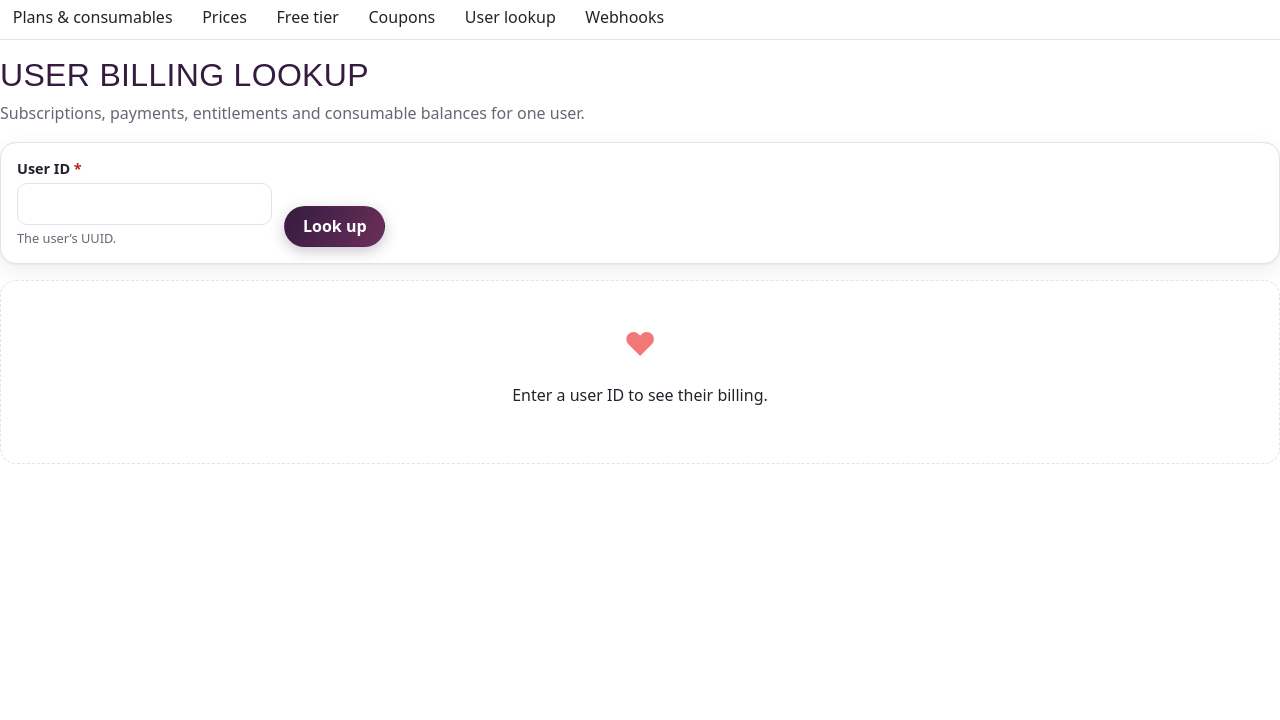
it: UserBillingPage › looks up a user and shows subscriptions, payments, entitlements, balances and ledger
This screenshot has width=1280, height=720.
Type "7c9e6679-7425-40de-944b-e07fc1f90ae7" into the field labelled "User ID". click: (145, 204)
box: [17, 183, 272, 225]
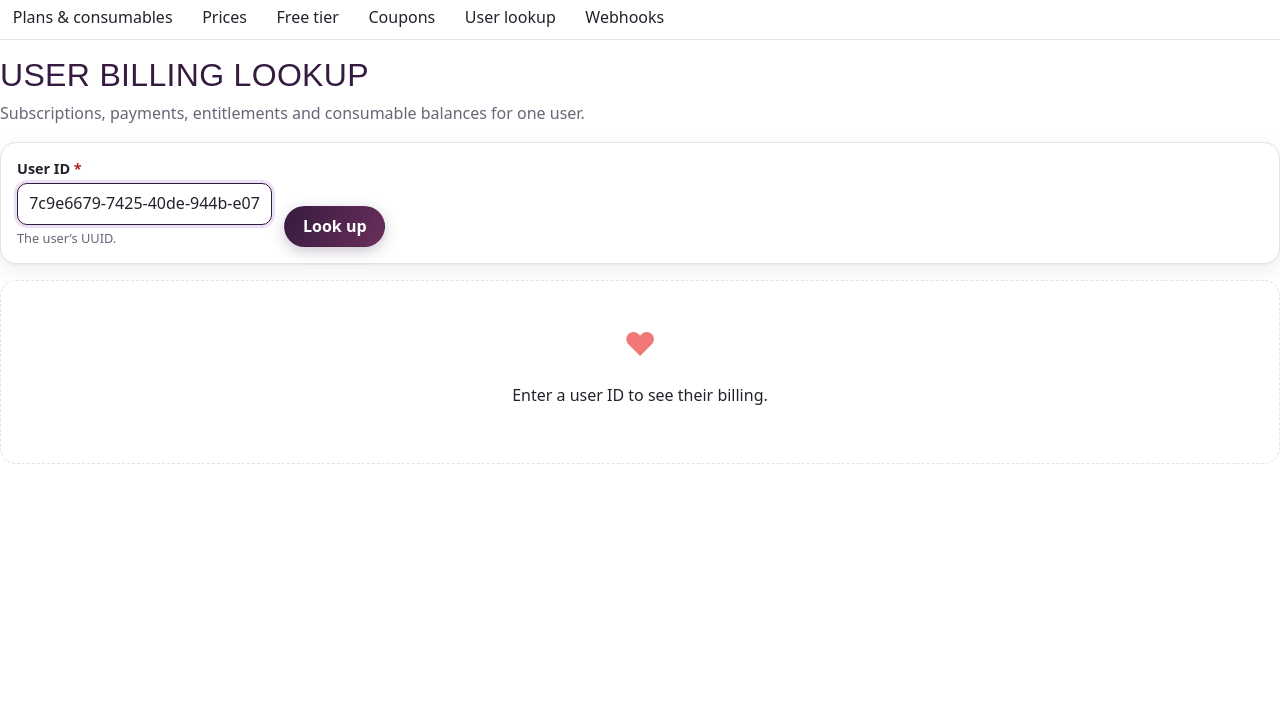
Click the button "Look up". click: (335, 227)
box: [284, 206, 385, 247]
(page scrolled)
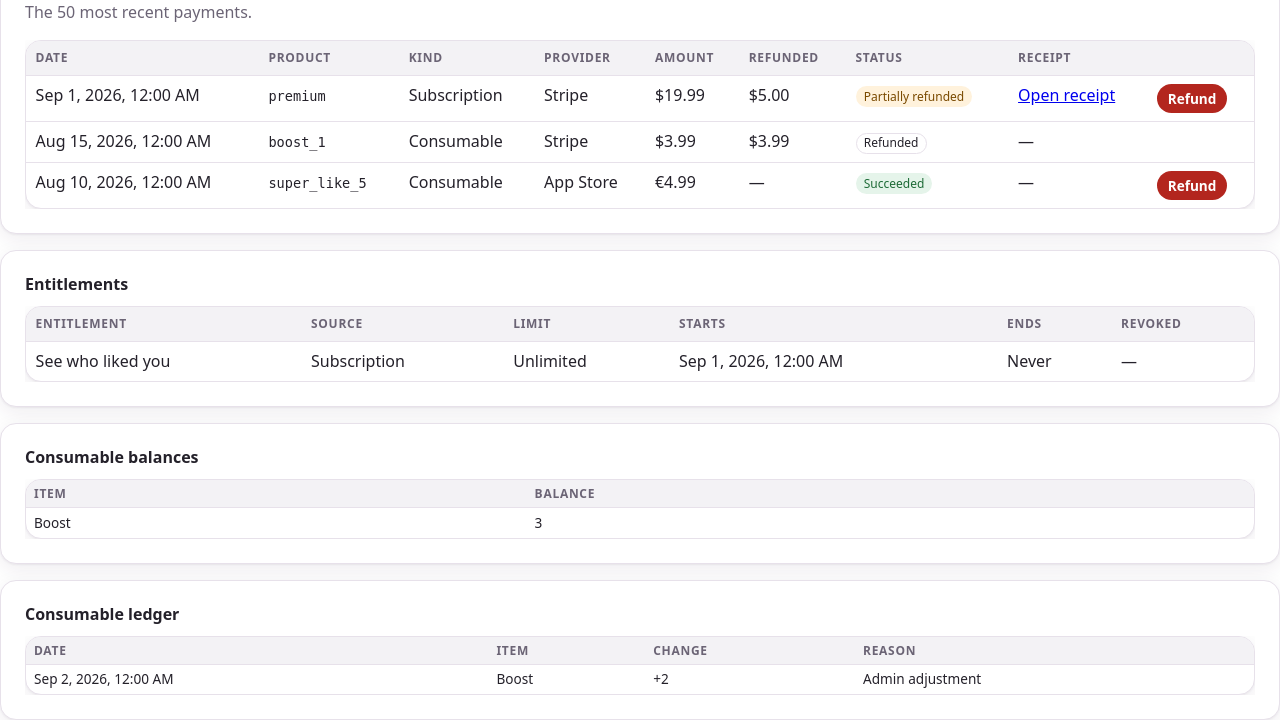
Check: the text "$19.99" is shown, box [645, 76, 739, 122]
Check: the text "$5.00" is shown, box [739, 76, 846, 122]
Check: the text "€4.99" is shown, box [645, 163, 739, 208]
